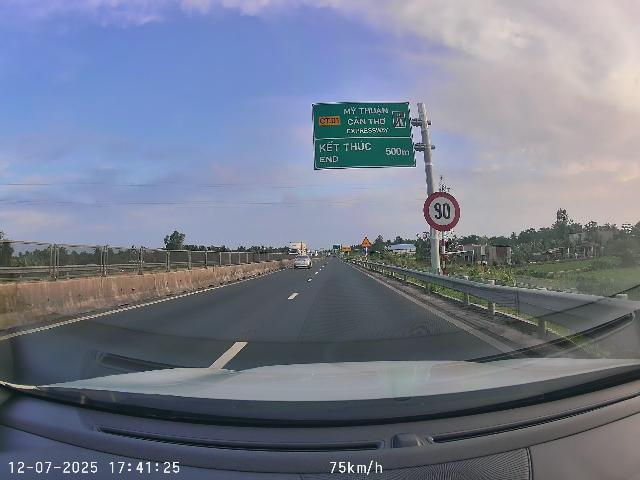127-toc-do-toi-da-90: (423, 191, 461, 232)
438-ket-thuc-duong-cao-toc: (392, 110, 407, 130)
